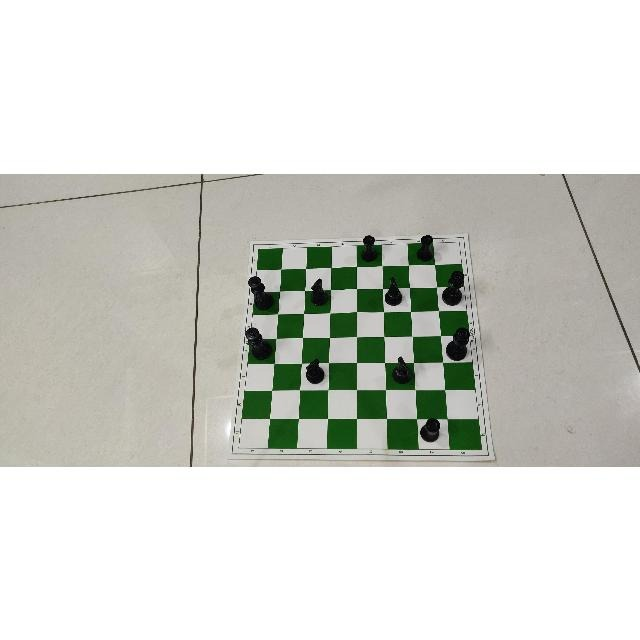black-king: (240, 325, 276, 364), (243, 275, 276, 313)
black-knight: (387, 355, 415, 386), (307, 275, 330, 309), (383, 273, 405, 307), (304, 356, 325, 384)
black-queen: (444, 324, 472, 362), (441, 267, 464, 309)
black-rook: (357, 234, 381, 262), (414, 231, 435, 262), (418, 415, 441, 442)
